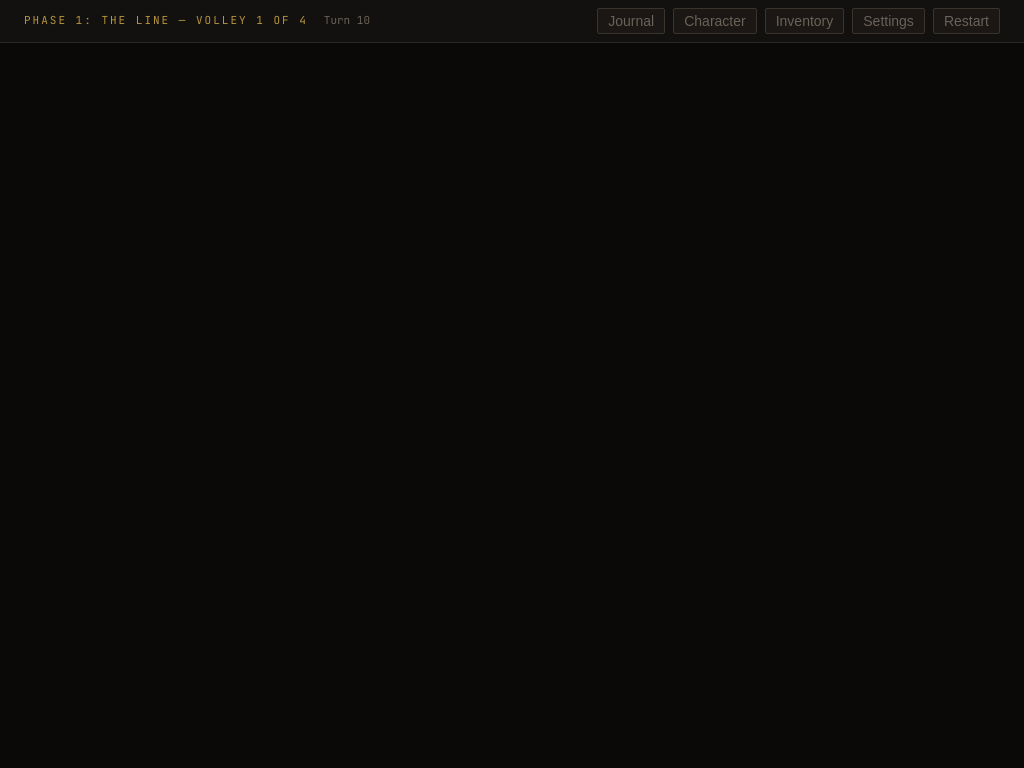
Scenario: OpeningBeatPage › shows character panel when character button clicked
Click the button titled "Character" at (715, 21), box [673, 8, 757, 34]
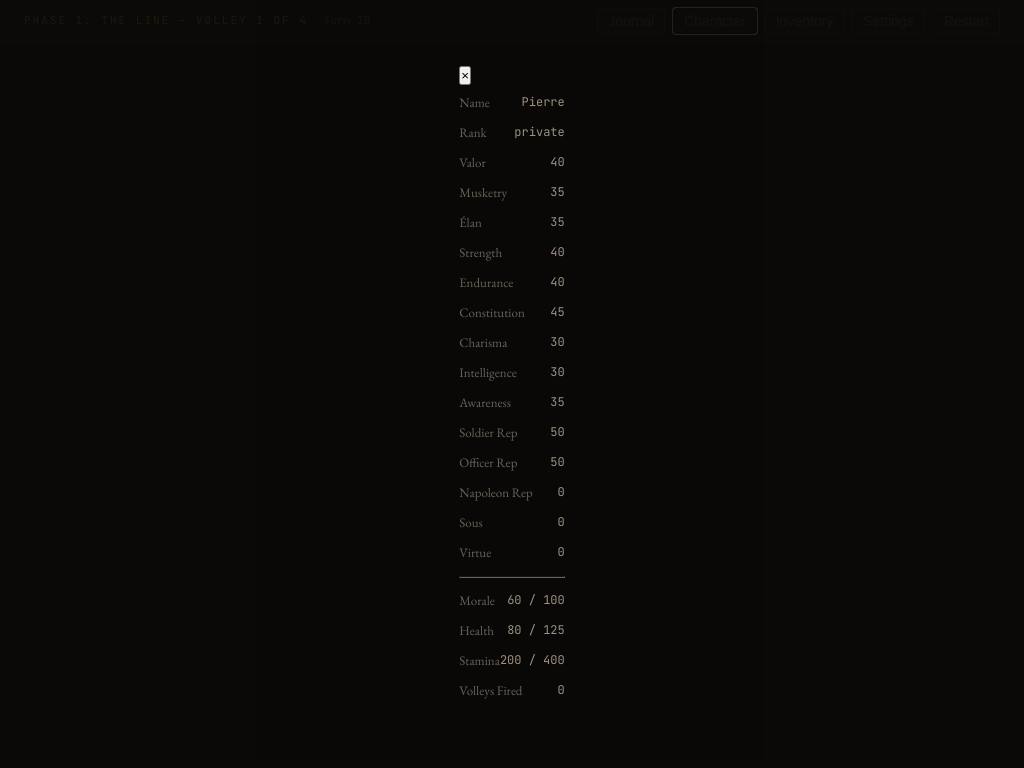
Expected: the text "Pierre" is shown, [522, 90, 565, 116]
